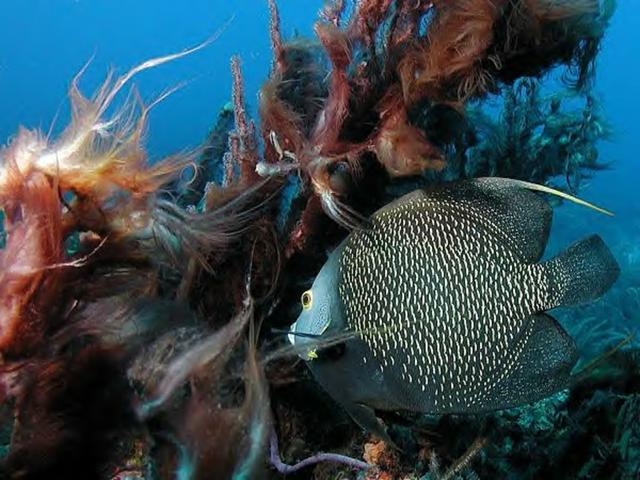fish: (242, 166, 618, 416)
